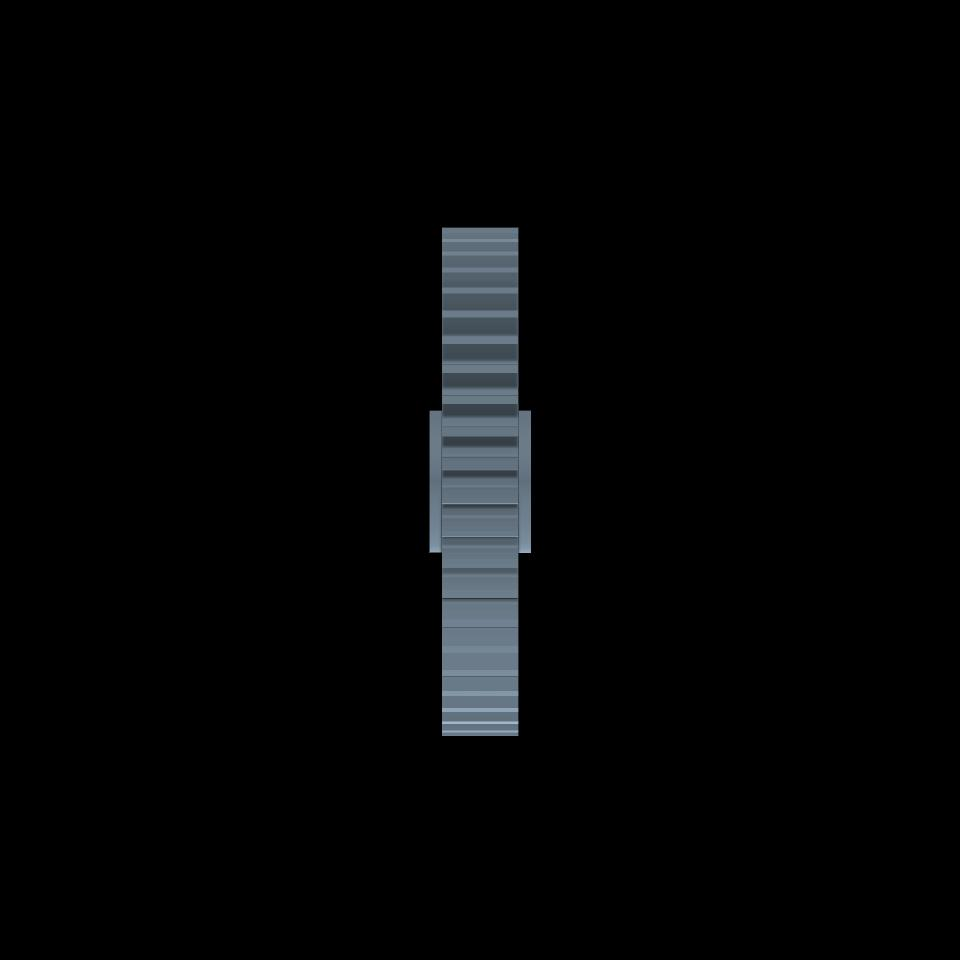Straight: (444, 227, 519, 734)
